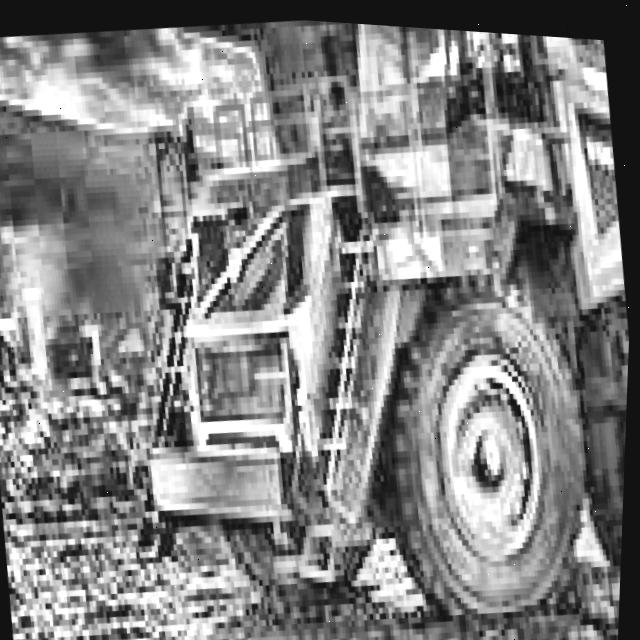dump_truck: (67, 4, 640, 640)
